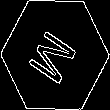M_SE: (26, 22, 84, 88)
